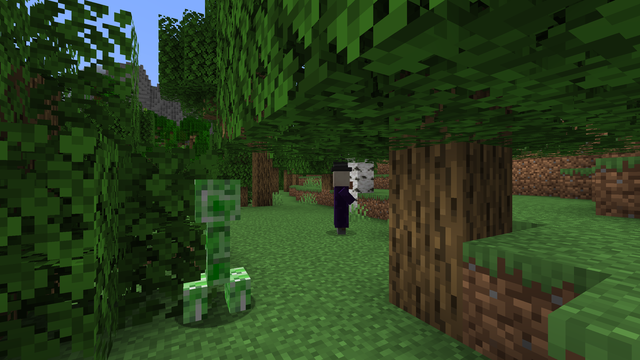creepers: (189, 172, 246, 324)
sorcieres: (327, 168, 354, 235)
